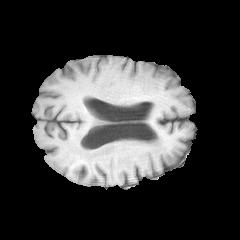glioma: (78, 135, 166, 173)
